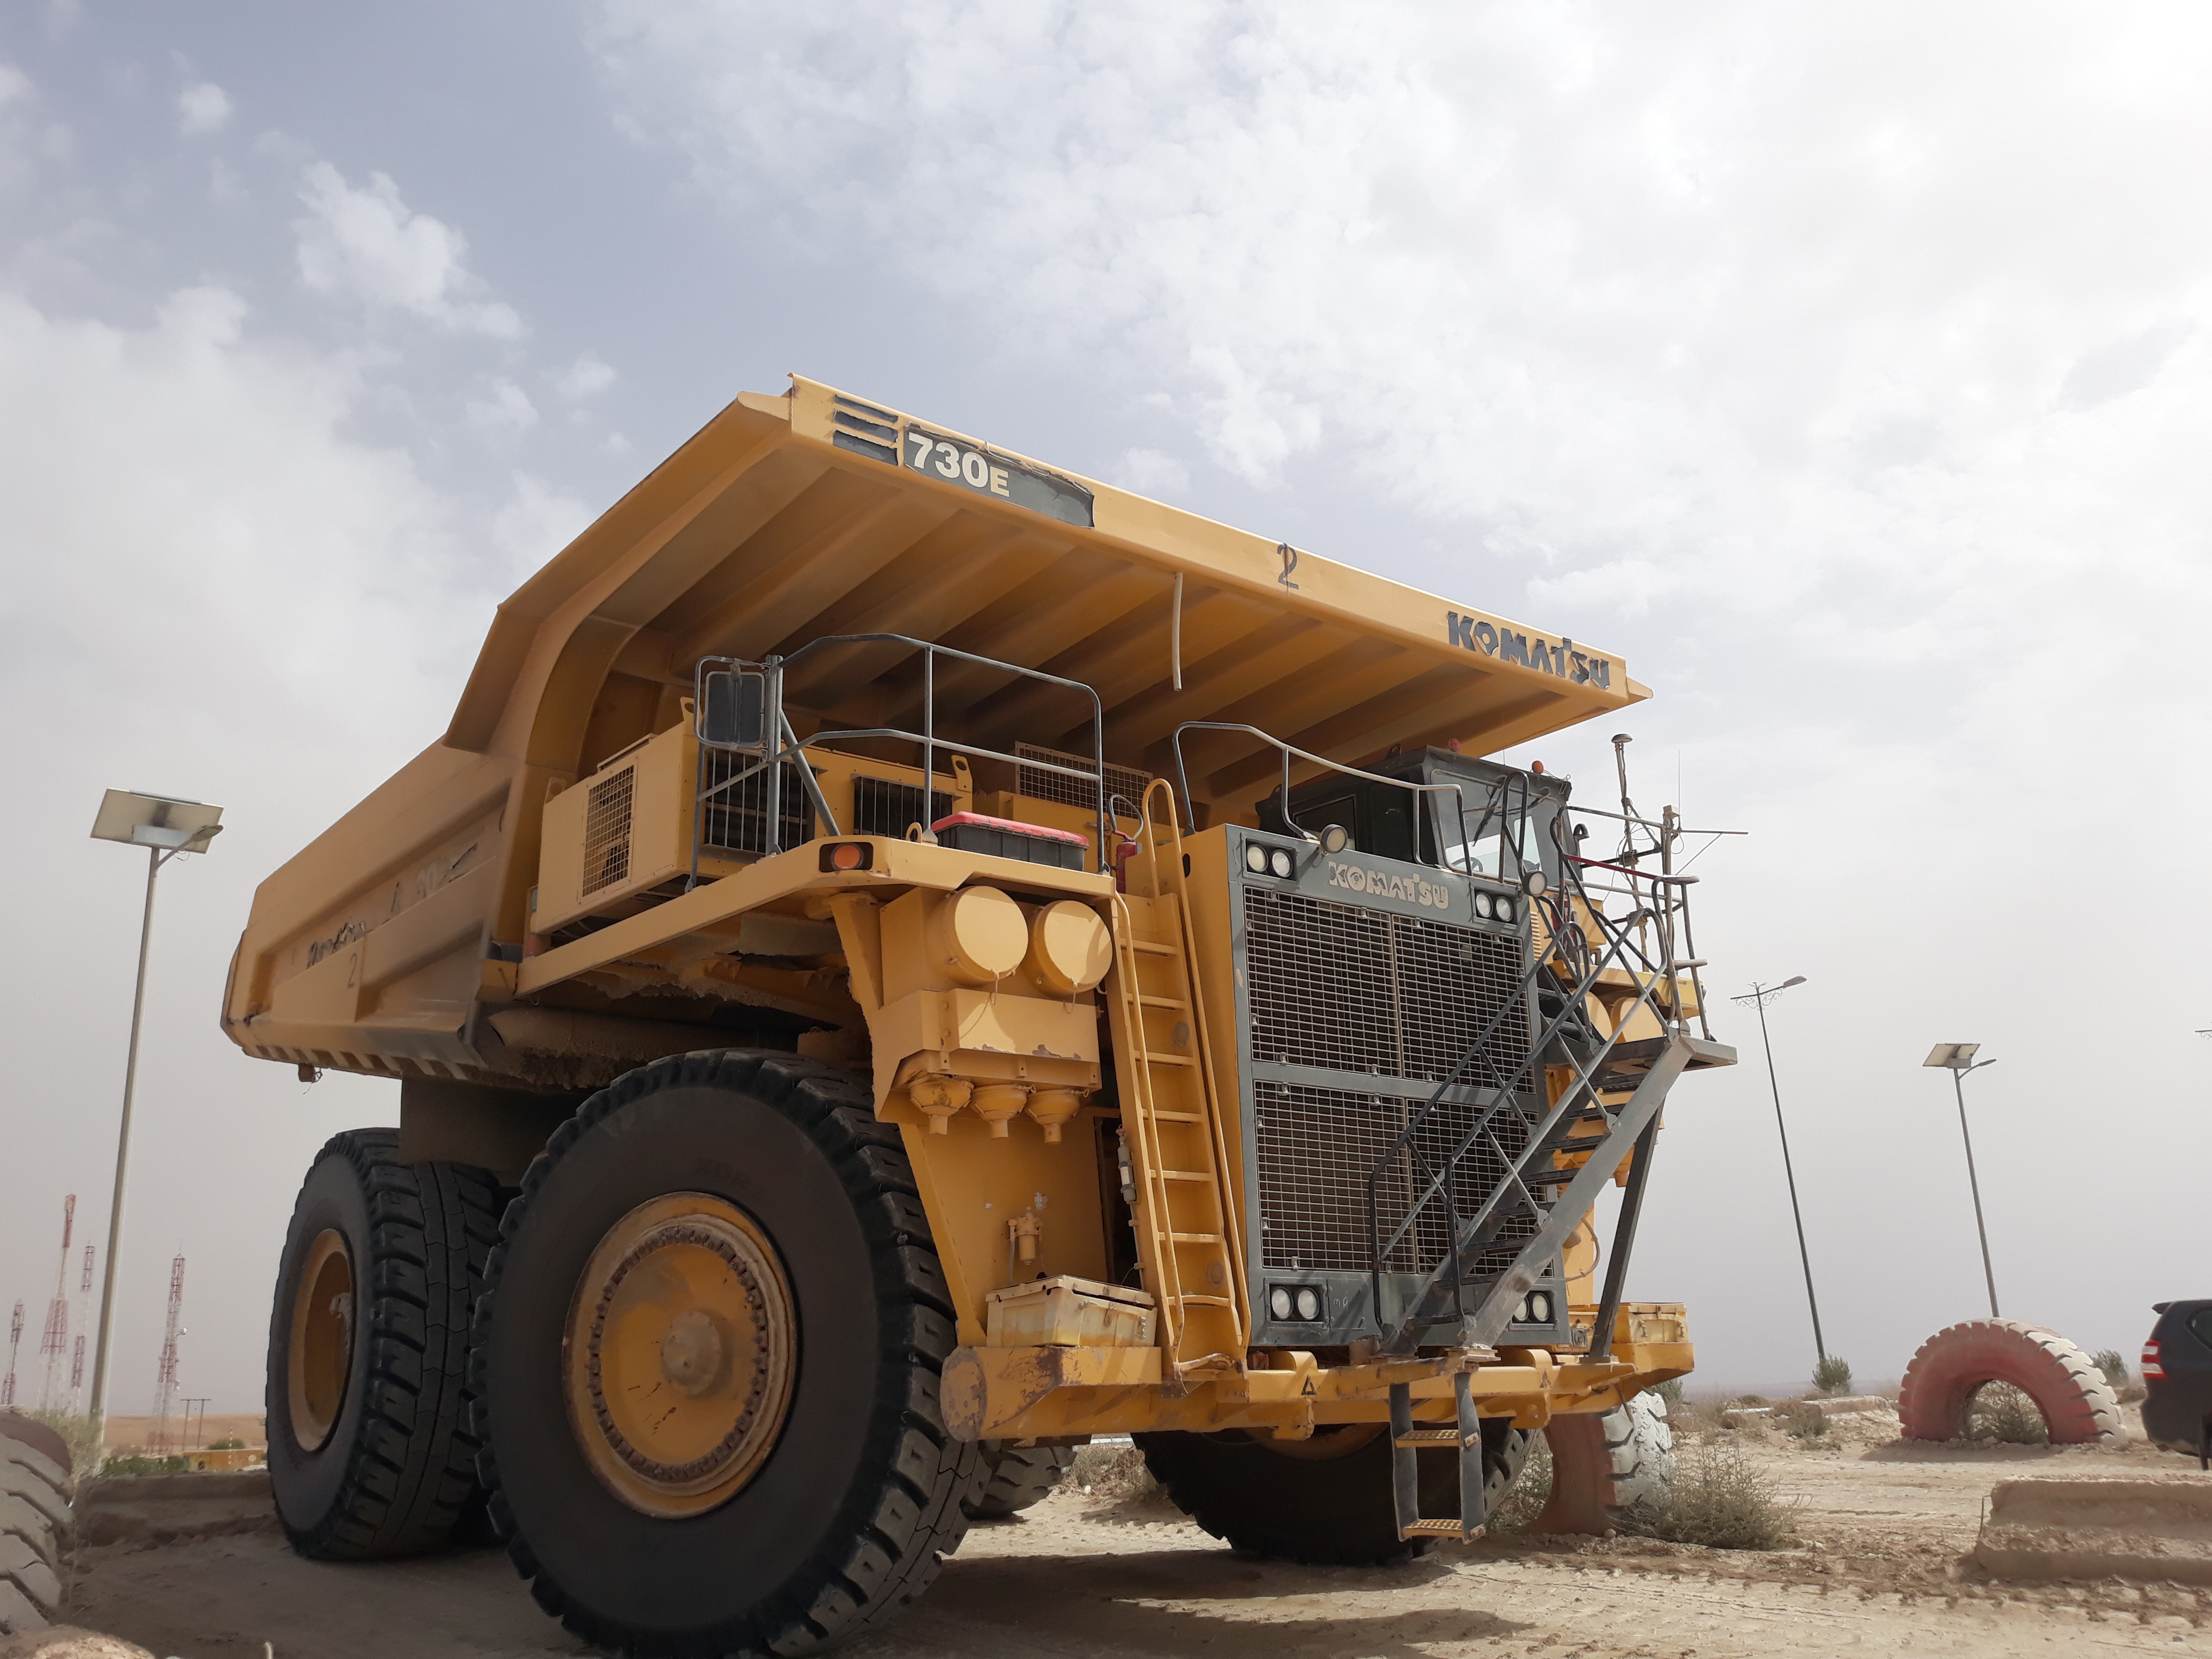camion: (206, 362, 1740, 1656)
